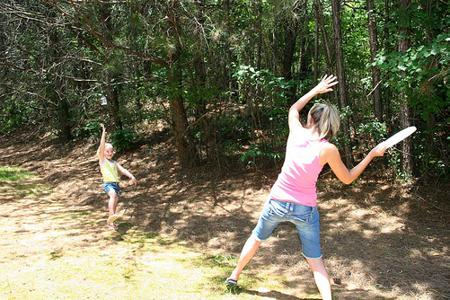person: (225, 74, 388, 300)
